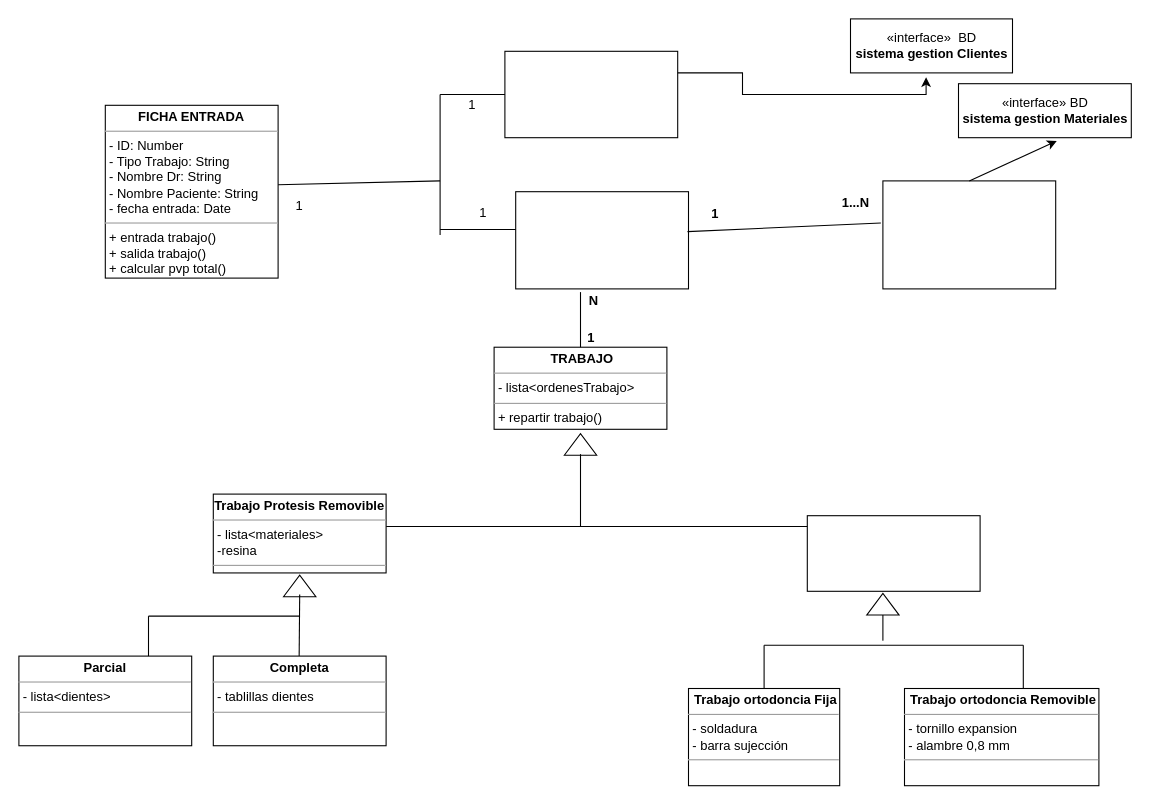
The diagram is 1150 pixels wide and 805 high, and some of its shapes have lost their labels. The box of each missing label's shape, as (x1, y1, x2, y2) in pixels:
Albaran entrega - Datos ficha entrada + facturar trabajo (): (504, 50, 678, 138)
Material - nombre: String - precio: float - cantidadMaterial: int: (882, 180, 1056, 289)
Orden trabajo - Datos ficha entrada - fecha salida: Date: (515, 191, 688, 289)
Trabajo Ortodoncia - lista<materiales>: (806, 515, 980, 591)
